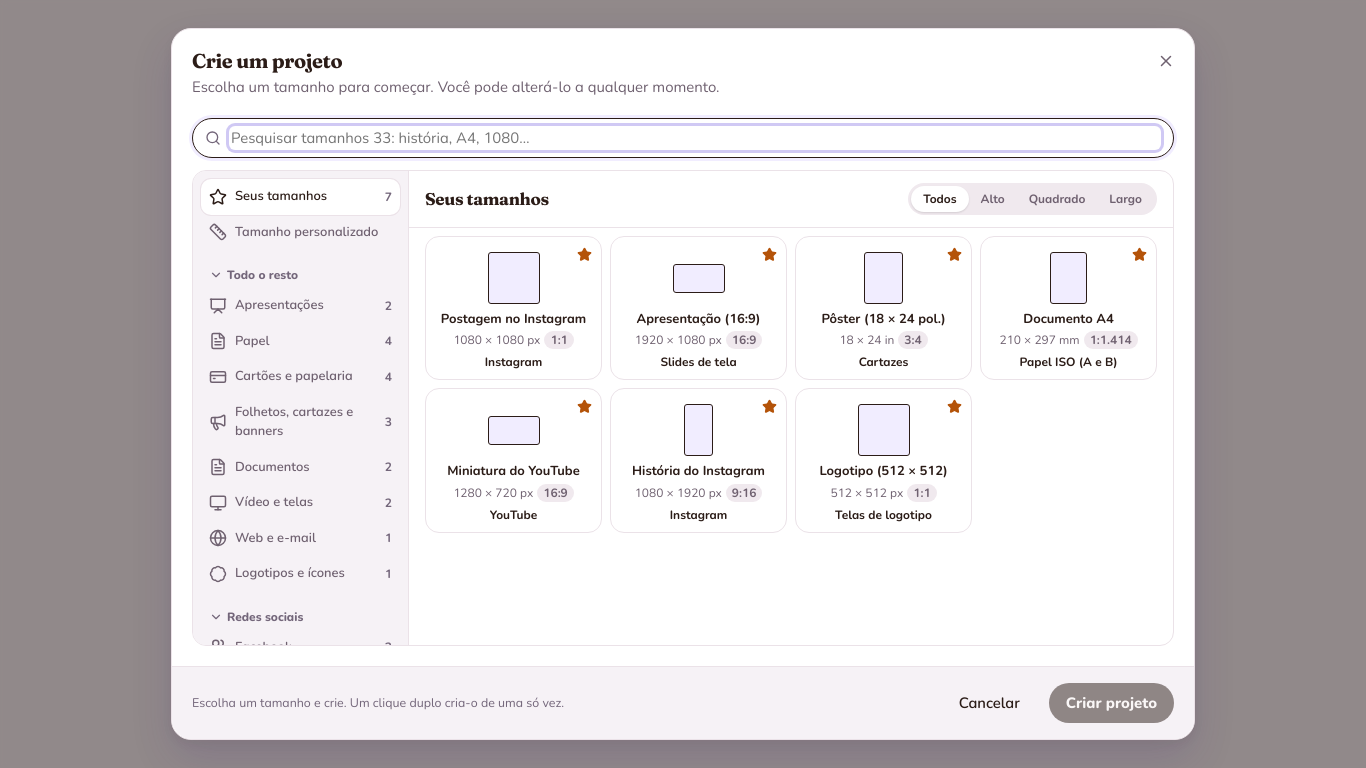
Test: Create a design dialog › offers the built-in sizes by default
Check: the button "História do Instagram 1080 × 1920 px 9:16 Instagram" is shown, box [610,388,787,533]
Step 1. Click the button "Papel 4" → point(300, 341), box [201,324,400,359]
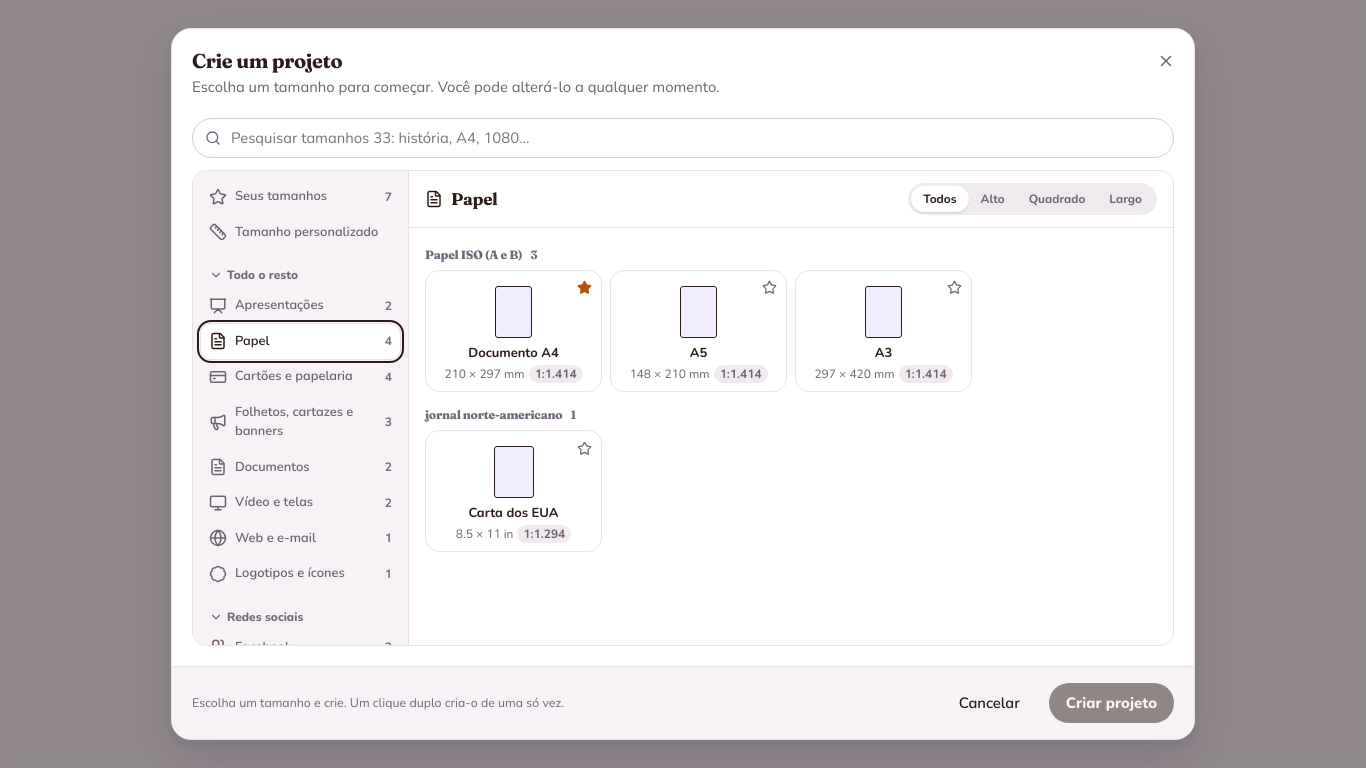
Check: the heading "Papel ISO (A e B) 3" is shown, box [425,247,537,262]
